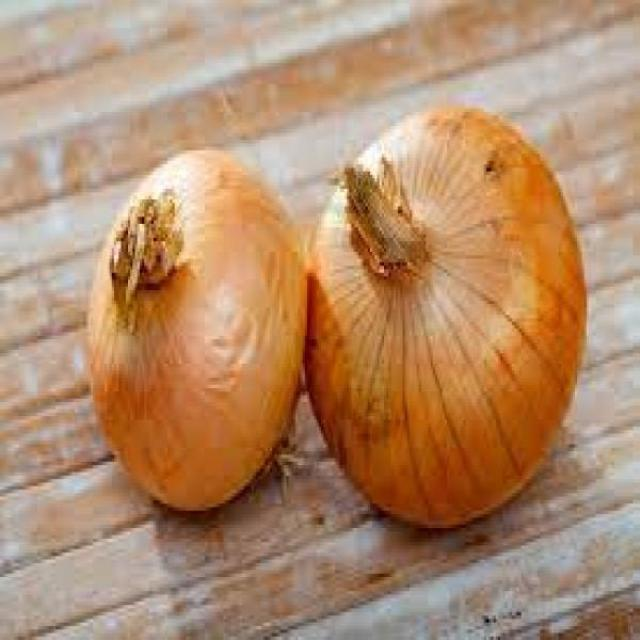Onion: (303, 106, 589, 531), (84, 149, 313, 515)
